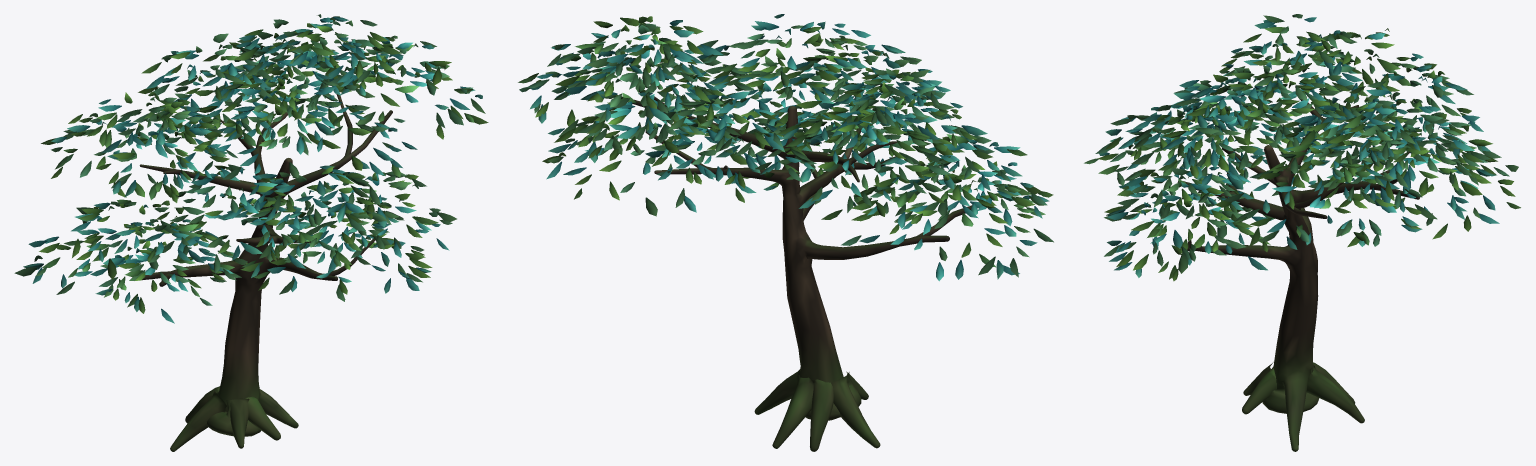
The model's file is tree_green_b.glb.
The picture shows the model from 3 angles, left to right: view 1: azimuth 30°, elevation 25°; view 2: azimuth 150°, elevation 25°; view 3: azimuth 270°, elevation 25°; orthographic projection. The views are drawn at different scales.
Parts seen in each view (by area): view 1: tree_green_b; view 2: tree_green_b; view 3: tree_green_b.
Part boxes in pixels (x1,y1,x2,y2): tree_green_b: (14, 14, 488, 451); tree_green_b: (518, 14, 1053, 451); tree_green_b: (1084, 14, 1520, 451).
Bounding box in the file's own units: 8.07 × 6.18 × 6.49.
